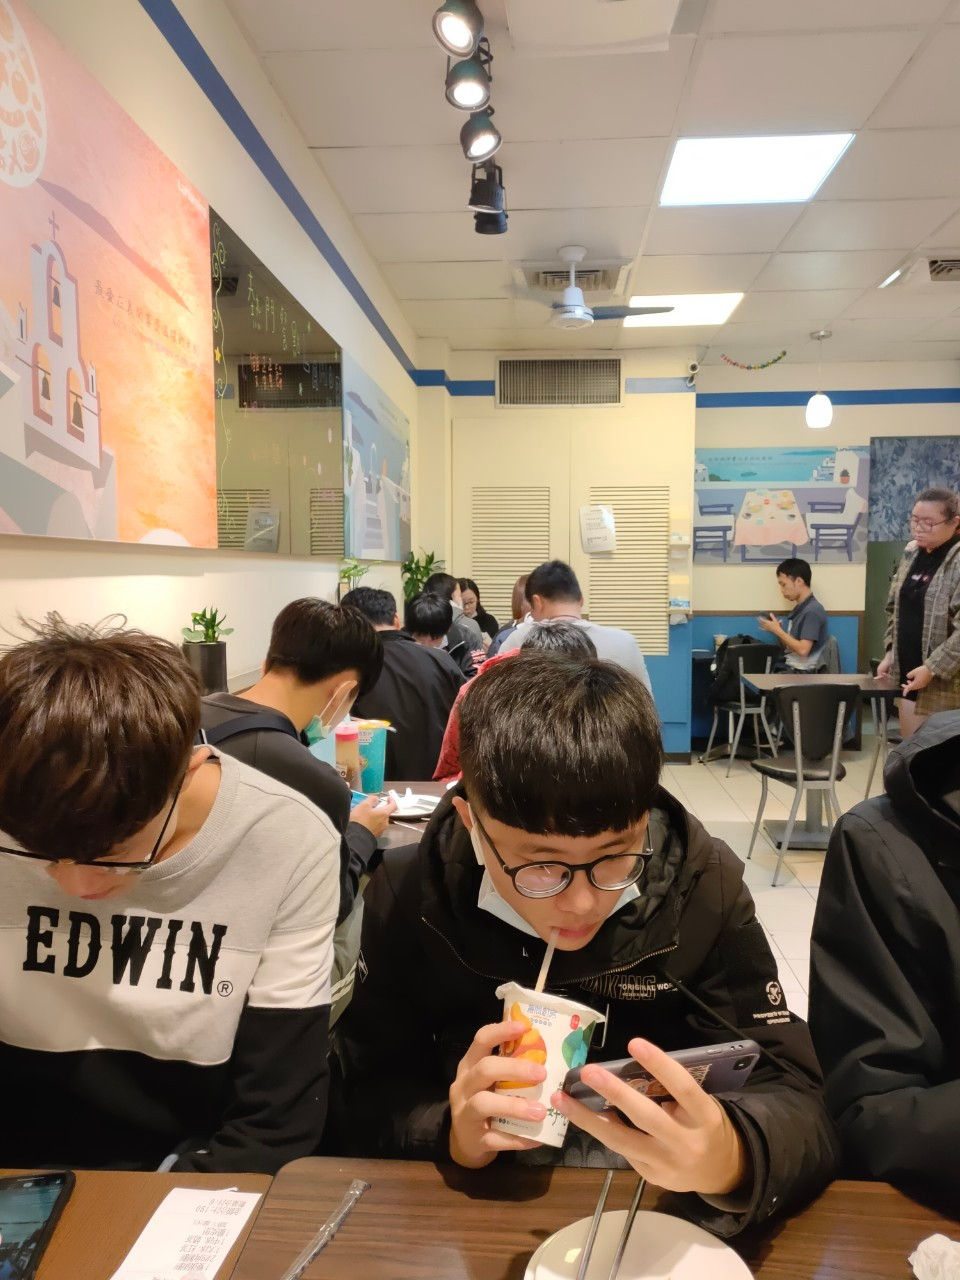people: (413, 659, 793, 1229), (7, 621, 346, 1176), (823, 733, 960, 1235), (236, 596, 389, 900), (344, 586, 464, 772), (509, 555, 654, 690), (885, 494, 960, 727), (772, 565, 854, 702), (393, 590, 460, 657), (456, 580, 499, 641), (509, 568, 542, 623)
